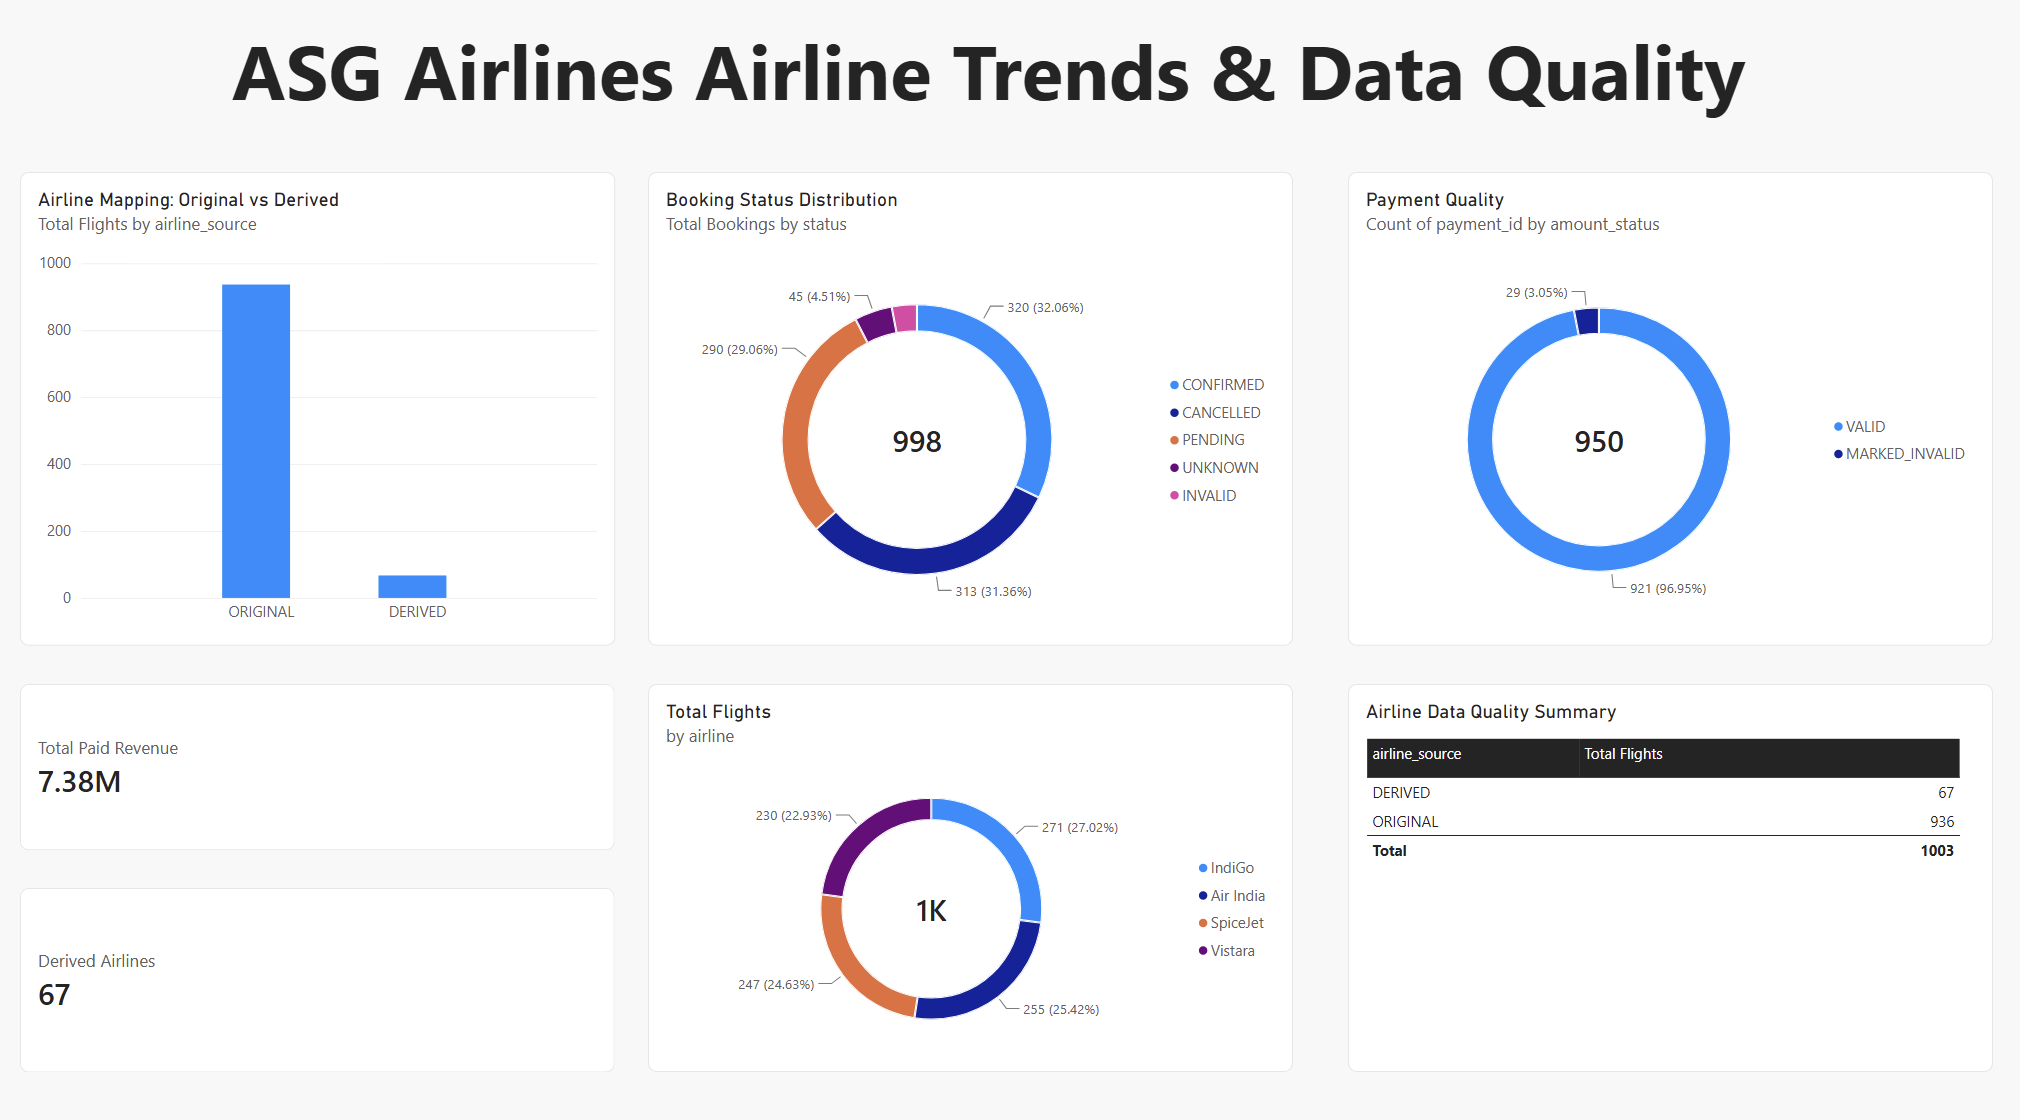

Layout of this report page (visuals, bound fields, positions):
{"tool":"powerbi","page":{"name":"Airline & Data Quality","canvas":[1920,1080],"ordinal":3},"visuals":[{"type":"clusteredColumnChart","title":"Airline Mapping: Original vs Derived","fields":{"Category":["fact_flights.airline_source"],"Y":["_Measures.Total Flights"]},"box":[25.5,168.1,561.7,446.8],"z":0},{"type":"donutChart","title":"Booking Status Distribution","fields":{"Category":["fact_bookings.status"],"Y":["_Measures.Total Bookings"]},"box":[619.1,168.1,608.5,446.8],"z":1000},{"type":"donutChart","title":"Payment Quality","fields":{"Category":["fact_payments.amount_status"],"Y":["CountNonNull(fact_payments.payment_id)"]},"box":[1278.7,168.1,608.5,446.8],"z":2000},{"type":"tableEx","title":"Airline Data Quality Summary","fields":{"Values":["fact_flights.airline_source","_Measures.Total Flights"]},"box":[1278.7,651.1,608.5,366],"z":3000},{"type":"cardVisual","fields":{"Data":["_Measures.Total Paid Revenue"]},"box":[25.5,651.1,561.7,157.4],"z":4000},{"type":"textbox","box":[25.5,23.4,1827.7,425.5],"z":5000},{"type":"cardVisual","fields":{"Data":["_Measures.Derived Airlines"]},"box":[25.5,842.6,561.7,174.5],"z":5001},{"type":"donutChart","fields":{"Category":["dim_airline.airline"],"Y":["_Measures.Total Flights"]},"box":[619.1,651.1,608.5,366],"z":5002}]}

Visuals, with their boxes in screenshot pixels (x1, y1, x2, y2), scaled from the page's 1920x1080 canvas onto the 2020x1120 screenshot:
"Airline Mapping: Original vs Derived" clusteredColumnChart: 27,174,618,638
"Booking Status Distribution" donutChart: 651,174,1292,638
"Payment Quality" donutChart: 1345,174,1985,638
"Airline Data Quality Summary" tableEx: 1345,675,1985,1055
cardVisual - _Measures.Total Paid Revenue: 27,675,618,838
textbox: 27,24,1950,466
cardVisual - _Measures.Derived Airlines: 27,874,618,1055
donutChart - dim_airline.airline x _Measures.Total Flights: 651,675,1292,1055
